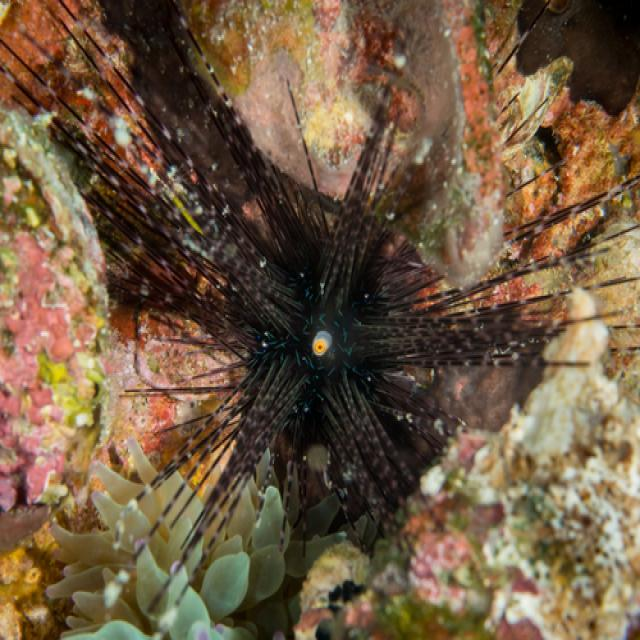Urchin: (94, 80, 604, 555)
